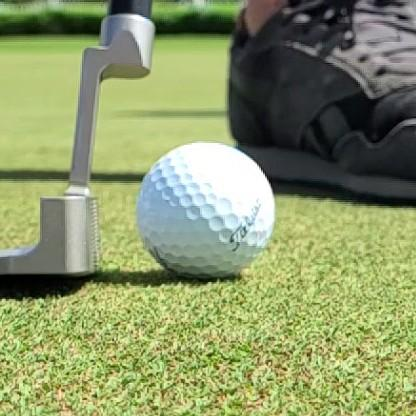golfball: (137, 143, 274, 278)
